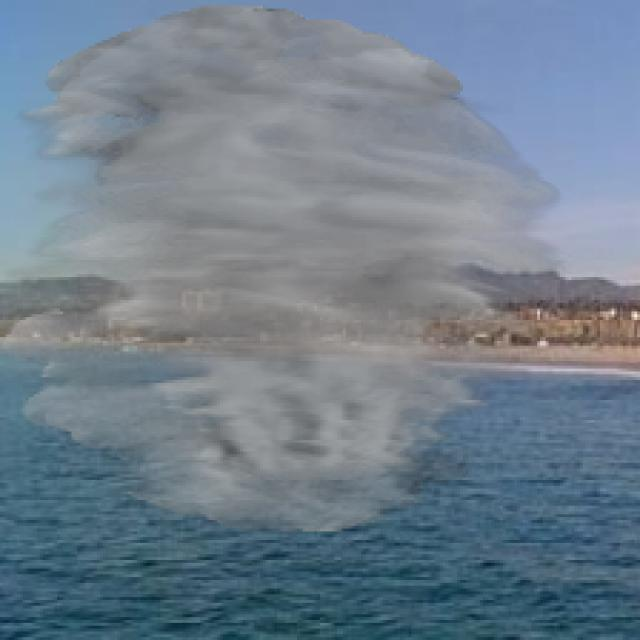smoke: (0, 6, 566, 534)
